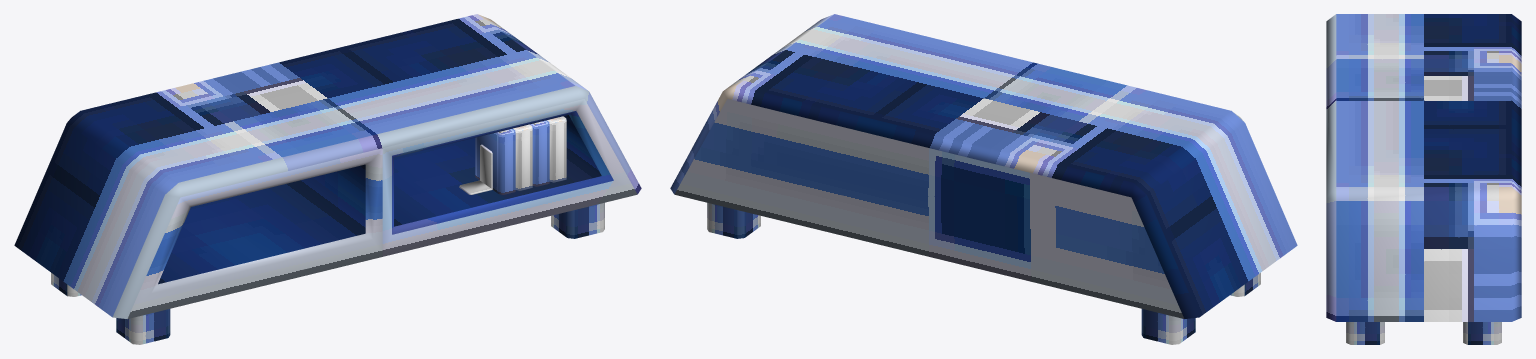
The model's file is rmk_str_shelf.dae.
The picture shows the model from 3 angles, left to right: view 1: azimuth 30°, elevation 25°; view 2: azimuth 150°, elevation 25°; view 3: azimuth 270°, elevation 25°; orthographic projection. The views are drawn at different scales.
Visible parts, largest first — view 1: rmk_str_shelf; view 2: rmk_str_shelf; view 3: rmk_str_shelf.
Part boxes in pixels (bbox=[...]): rmk_str_shelf: bbox=[14, 14, 641, 344]; rmk_str_shelf: bbox=[670, 14, 1297, 344]; rmk_str_shelf: bbox=[1326, 14, 1521, 344].
Size of the model in its own units: 56 by 16 by 20.
Materials: 1 (1 with a texture image).
